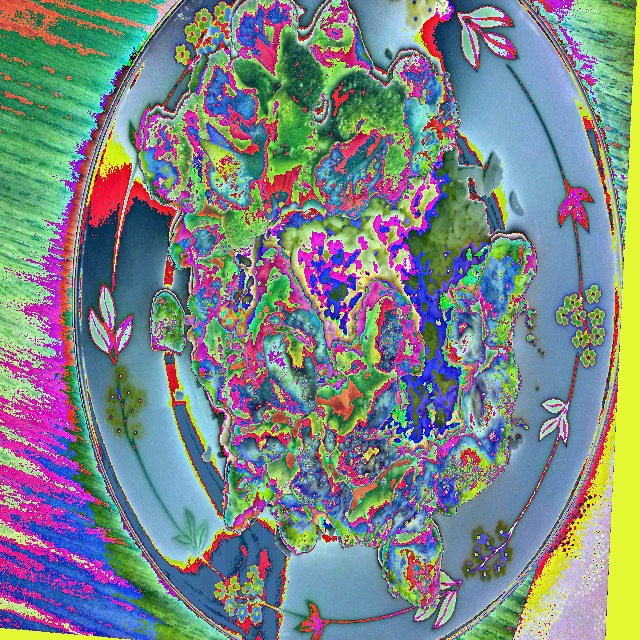background: (138, 0, 537, 610), (35, 65, 185, 355)
